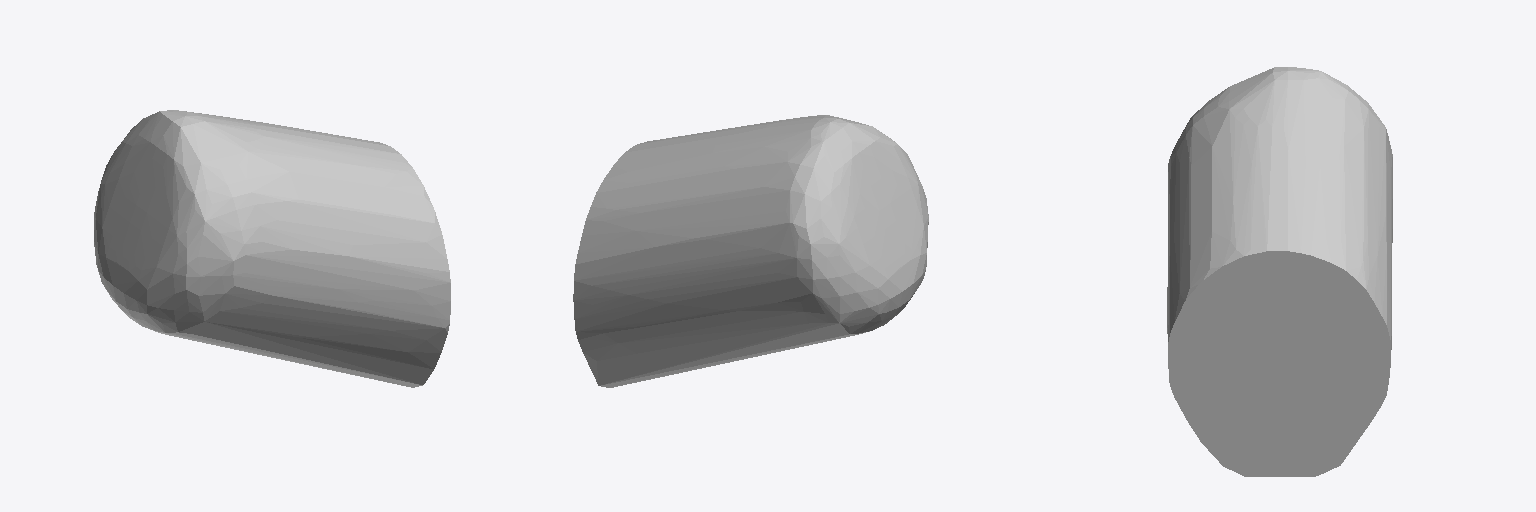
File: weight_4_collision_4.obj
3 renders of one model, left to right at view 1: azimuth 30°, elevation 25°; view 2: azimuth 150°, elevation 25°; view 3: azimuth 270°, elevation 25°, orthographic.
Size of the model in its own units: 0.1964 by 0.2065 by 0.1379.